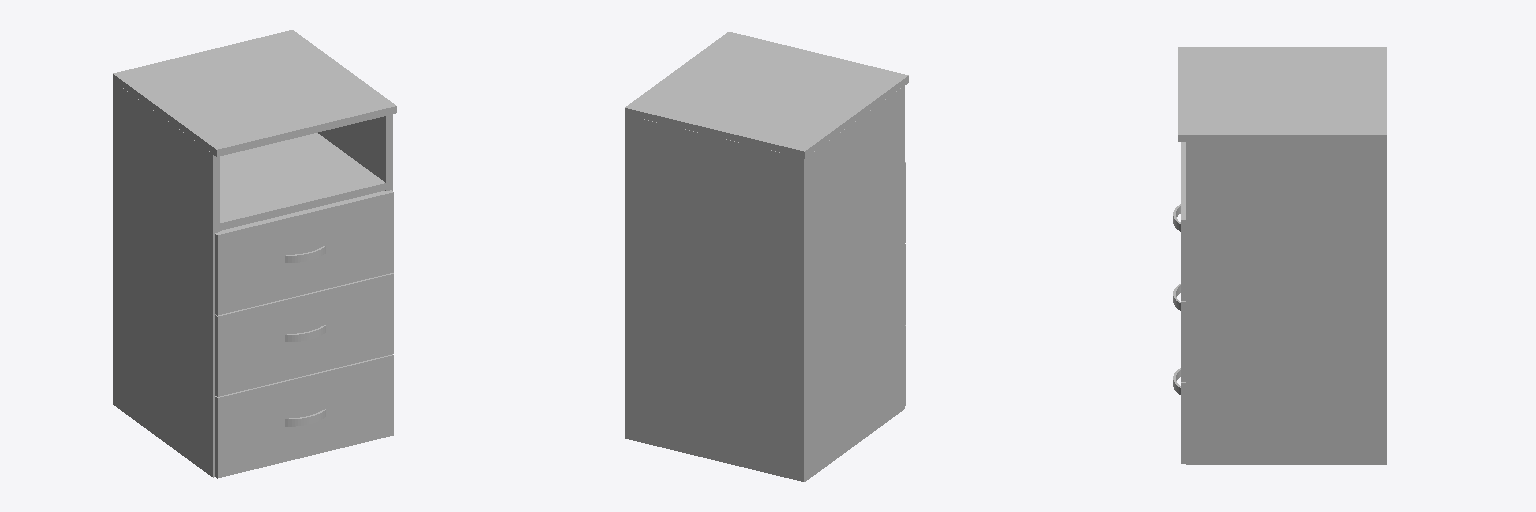
File: АЛЬБА.obj
3 renders of one model, left to right at view 1: azimuth 30°, elevation 25°; view 2: azimuth 150°, elevation 25°; view 3: azimuth 270°, elevation 25°, orthographic.
Parts seen in each view (by area): view 1: Cube.003_Cube.004, Cube.007_Cube.008, Plane.003; view 2: Cube.004_Cube.005, Cube.003_Cube.004; view 3: Cube.003_Cube.004, Cube.007_Cube.008.
Part boxes in pixels (bbox=[...]): Cube.003_Cube.004: bbox=[113, 30, 396, 477]; Cube.007_Cube.008: bbox=[215, 190, 393, 478]; Plane.003: bbox=[285, 246, 325, 426]; Cube.004_Cube.005: bbox=[625, 115, 804, 481]; Cube.003_Cube.004: bbox=[625, 32, 908, 481]; Cube.003_Cube.004: bbox=[1178, 47, 1386, 464]; Cube.007_Cube.008: bbox=[1181, 142, 1185, 463].
Bounding box in the file's own units: 0.8789 × 1.54 × 0.9019.